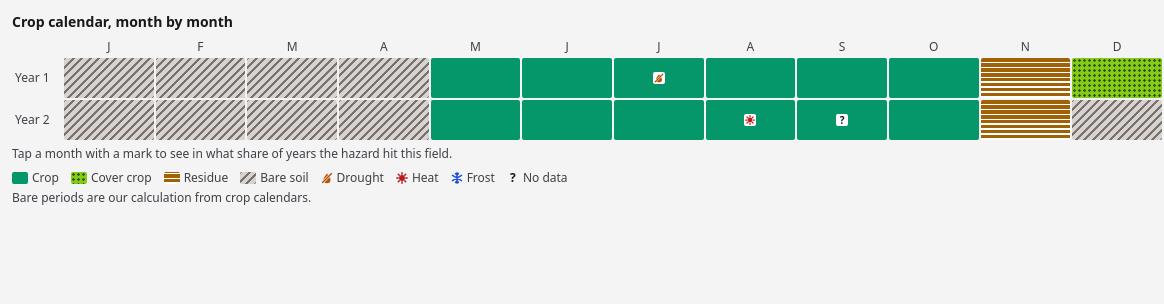
Test: CalendarStrip › holds no lists, so the lists of a card keep their order (gaps, then risks)
Click the button named "July, Maize, drought risk". click: (659, 78)
box: [614,58,704,98]
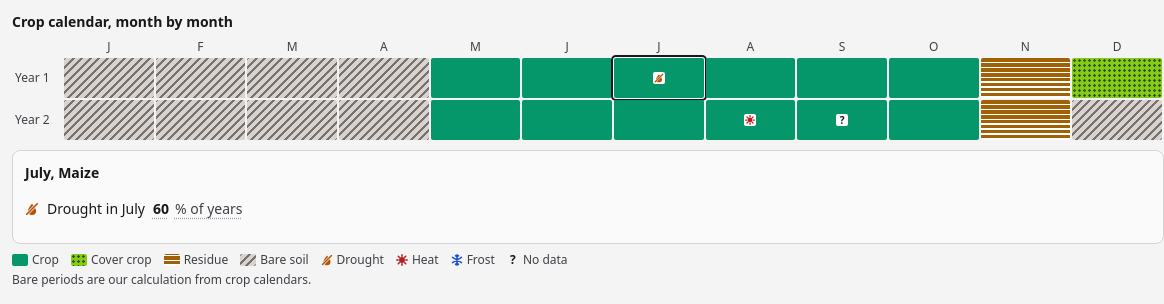
Check: the text "Drought in July" is shown, box [47,199,145,219]
